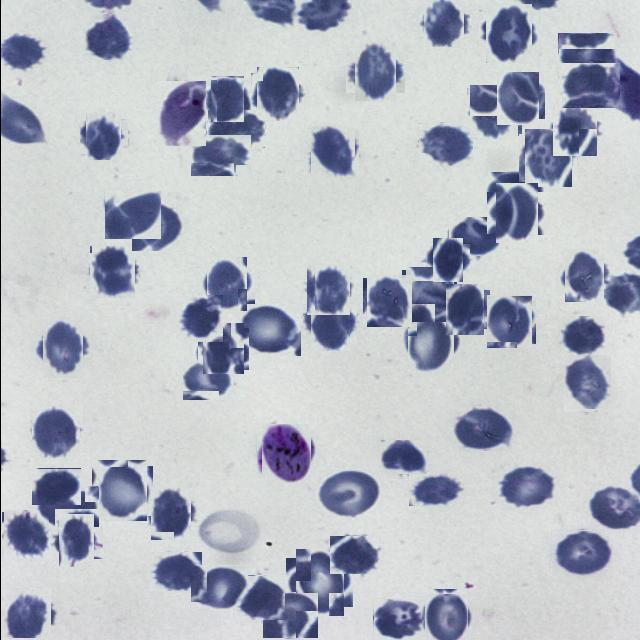red blood cell: (290, 554, 348, 612), (315, 468, 380, 518), (238, 305, 300, 356), (94, 464, 149, 518), (403, 316, 457, 370), (520, 132, 574, 185), (450, 405, 512, 451), (550, 530, 611, 576), (562, 354, 610, 412), (482, 6, 534, 59), (402, 268, 454, 320), (468, 86, 520, 138), (490, 188, 542, 240), (104, 191, 160, 239), (190, 565, 248, 611), (557, 33, 616, 78), (189, 134, 250, 177), (561, 63, 619, 108), (36, 322, 87, 373), (350, 46, 400, 98), (35, 486, 98, 527), (261, 592, 317, 638), (497, 465, 555, 509), (30, 407, 81, 457), (131, 201, 182, 251), (484, 296, 534, 346), (0, 588, 50, 638), (419, 592, 470, 640), (417, 122, 472, 166), (87, 247, 136, 296), (364, 276, 413, 325), (253, 70, 301, 119), (82, 13, 132, 60), (232, 575, 284, 620), (484, 172, 545, 210), (308, 127, 356, 175), (493, 74, 541, 122), (1, 511, 49, 559), (550, 106, 598, 154), (146, 489, 194, 536), (203, 260, 250, 308), (175, 295, 222, 342), (306, 300, 352, 348), (207, 110, 264, 148), (304, 267, 351, 313), (560, 253, 606, 299), (200, 326, 246, 372), (181, 360, 233, 400), (419, 0, 466, 44), (148, 552, 201, 591), (372, 598, 421, 640), (441, 287, 486, 332), (560, 316, 608, 358), (448, 218, 498, 258), (54, 519, 98, 563), (408, 472, 464, 506), (30, 468, 80, 505), (329, 536, 377, 574), (82, 116, 124, 158), (206, 80, 246, 120), (380, 440, 426, 474), (428, 242, 466, 279)
ring: (156, 81, 205, 146)
trophozoite: (258, 427, 312, 481)
